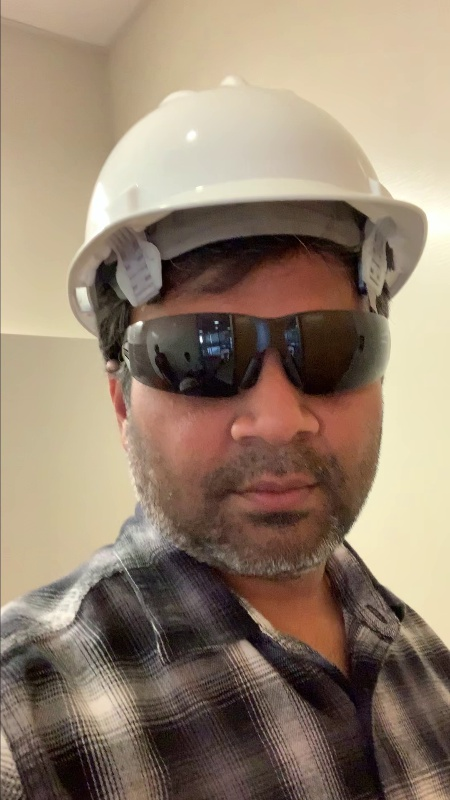glasses: (123, 300, 395, 403)
helmet: (54, 68, 432, 308)
